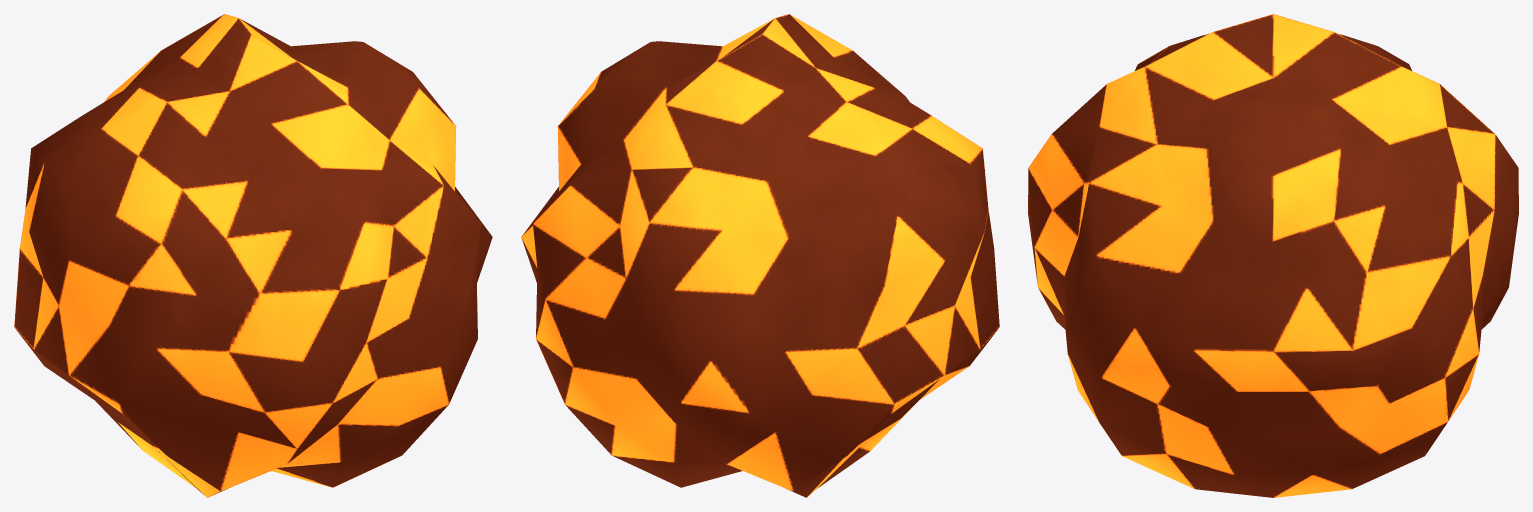
Rendered from wyvern_fireball.glb.
3 views of the same model, side by side, from view 1: azimuth 30°, elevation 25°; view 2: azimuth 150°, elevation 25°; view 3: azimuth 270°, elevation 25° (orthographic). The views are drawn at different scales.
Visible parts, largest first — view 1: wyvern_fireball_Mesh; view 2: wyvern_fireball_Mesh; view 3: wyvern_fireball_Mesh.
Boxes of the visible parts, x1,y1,x2,y2 form: wyvern_fireball_Mesh: (14, 14, 492, 497); wyvern_fireball_Mesh: (521, 14, 999, 497); wyvern_fireball_Mesh: (1028, 14, 1518, 497).
Bounding box in the file's own units: 0.9225 × 0.9557 × 0.9244.
1 material, 1 textured.
